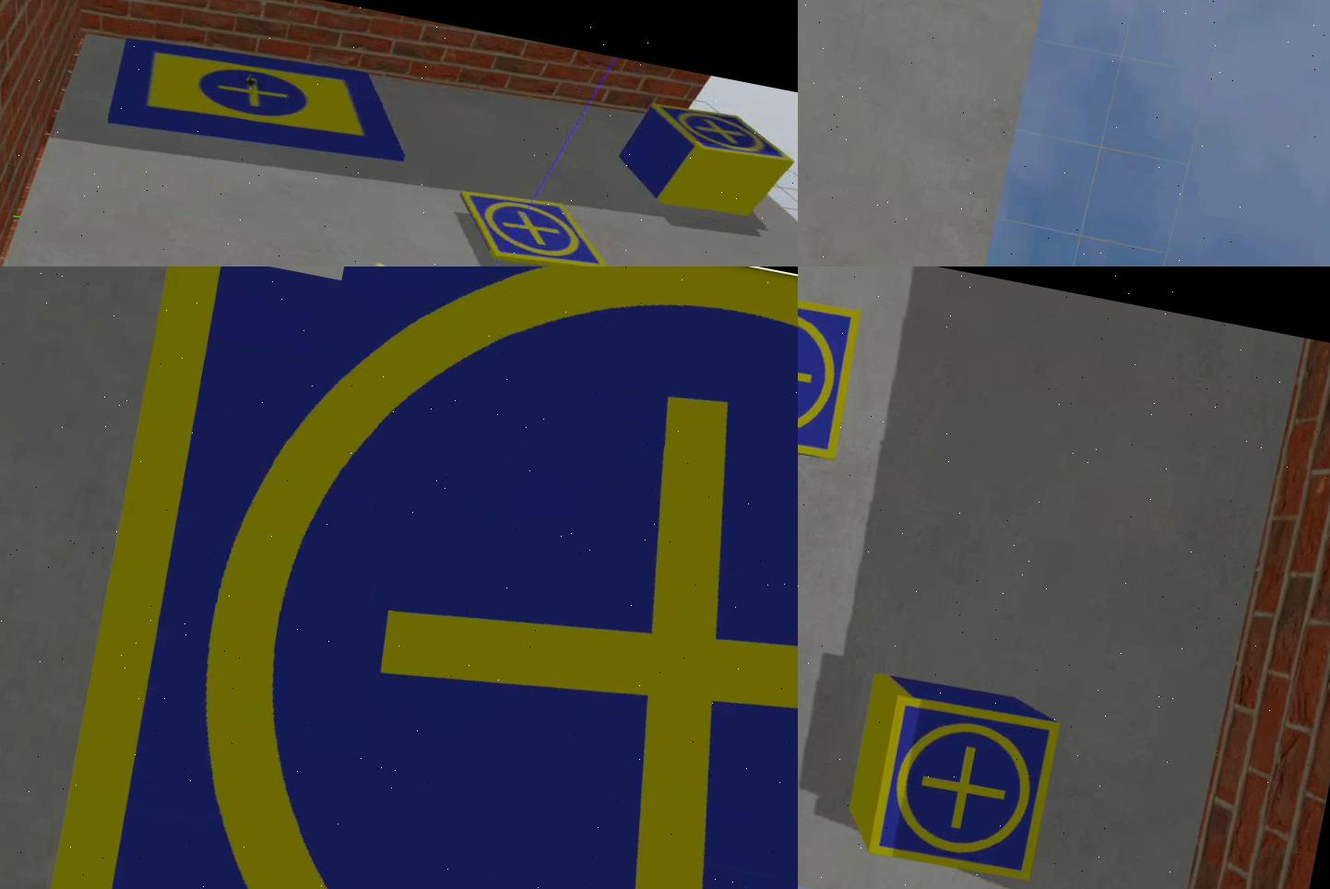large_base: (22, 267, 799, 889), (109, 28, 422, 172)
small_base: (864, 692, 1063, 889), (450, 183, 621, 267), (799, 283, 864, 465), (649, 104, 798, 172)
